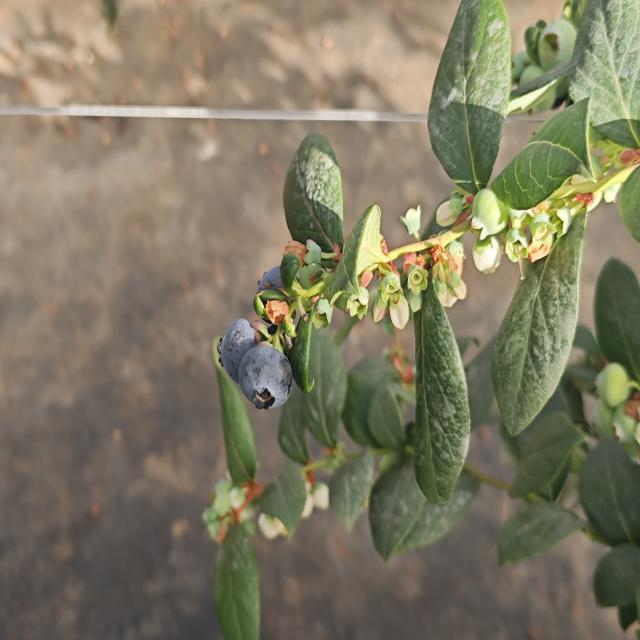ripe: (236, 338, 295, 414), (253, 258, 309, 324), (216, 316, 258, 386)
